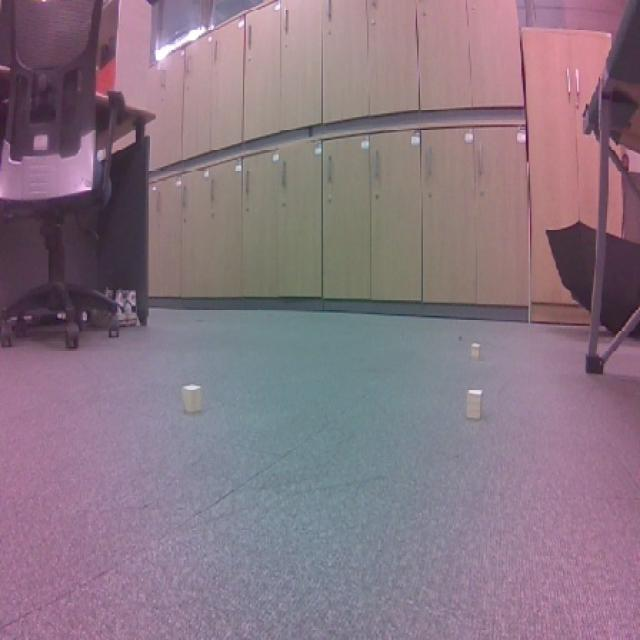obstacle: (446, 384, 498, 432), (168, 376, 214, 423)
